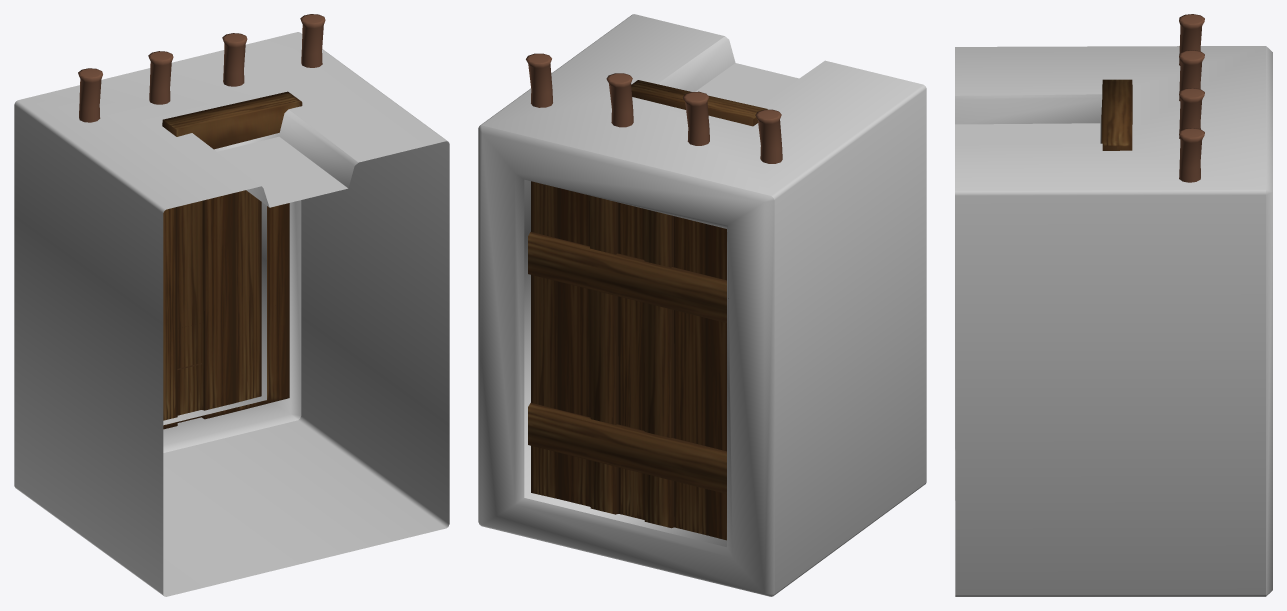
Rendered from Bandito_building3.FBX.
The picture shows the model from 3 angles, left to right: view 1: azimuth 30°, elevation 25°; view 2: azimuth 150°, elevation 25°; view 3: azimuth 270°, elevation 25°; orthographic projection. The views are drawn at different scales.
Visible parts, largest first — view 1: Bandito_Building003, Bandito_Building_Roof003, building003_wood, building003_door; view 2: Bandito_Building003, Bandito_Building_Roof003, building003_wood, building003_door; view 3: Bandito_Building003, building003_wood, building003_door.
Part boxes in pixels (x1=…): Bandito_Building003: x1=14, y1=32, x2=449, y2=596; Bandito_Building_Roof003: x1=163, y1=190, x2=289, y2=429; building003_wood: x1=78, y1=14, x2=325, y2=122; building003_door: x1=162, y1=91, x2=302, y2=149; Bandito_Building003: x1=478, y1=14, x2=926, y2=596; Bandito_Building_Roof003: x1=528, y1=181, x2=726, y2=540; building003_wood: x1=526, y1=53, x2=782, y2=163; building003_door: x1=631, y1=80, x2=767, y2=126; Bandito_Building003: x1=955, y1=46, x2=1272, y2=596; building003_wood: x1=1179, y1=14, x2=1204, y2=182; building003_door: x1=1101, y1=79, x2=1132, y2=150.
Bounding box in the file's own units: 5.47 × 7.88 × 5.
